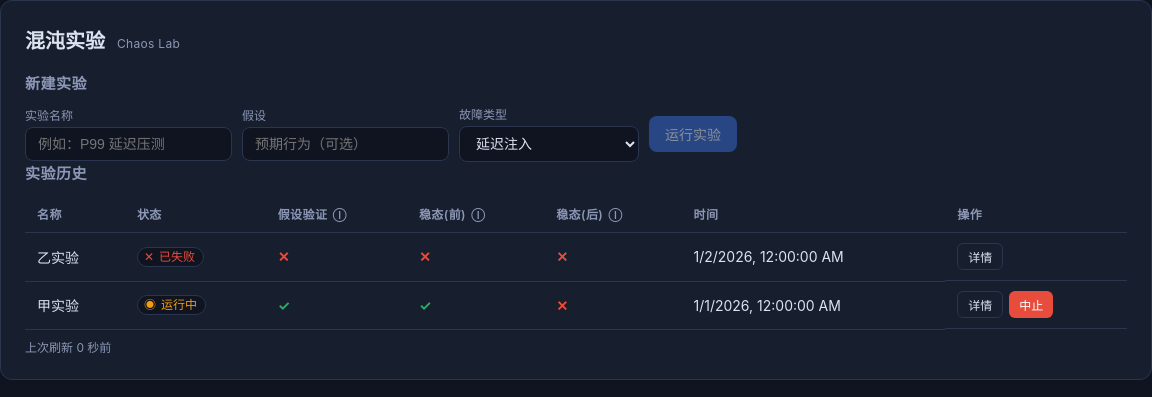
it: Chaos Lab 加固 › 点击名称表头按名称排序
The width and height of the screenshot is (1152, 397).
Expected: the text "乙实验" is shown, [25,232,125,281]
// 点击「名称」表头 → 升序（甲实验在前）
Click the button "名称".
click(57, 214)  # box [37,205,78,222]
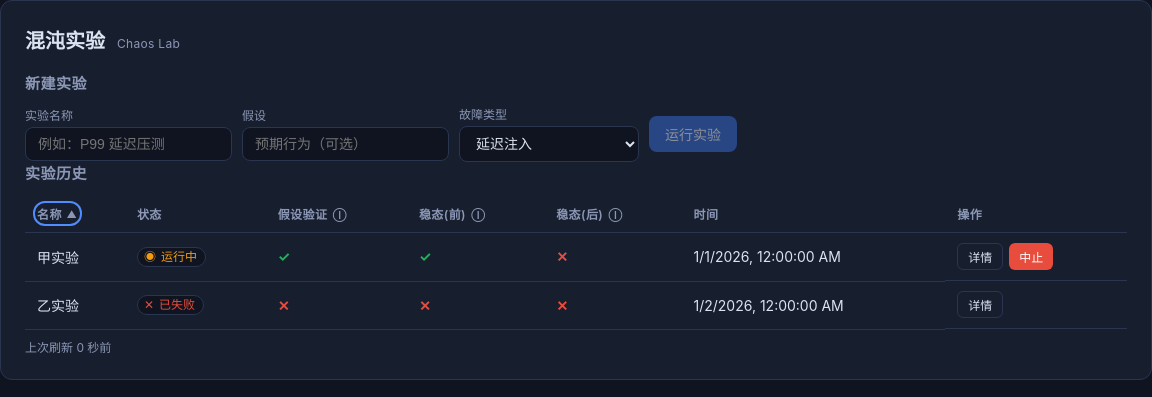
Expected: the row "甲实验 ◉ 运行中 ✓ ✓ ✕ 1/1/2026, 12:00:00 AM 详情 中止" is shown, [25,232,1127,281]
